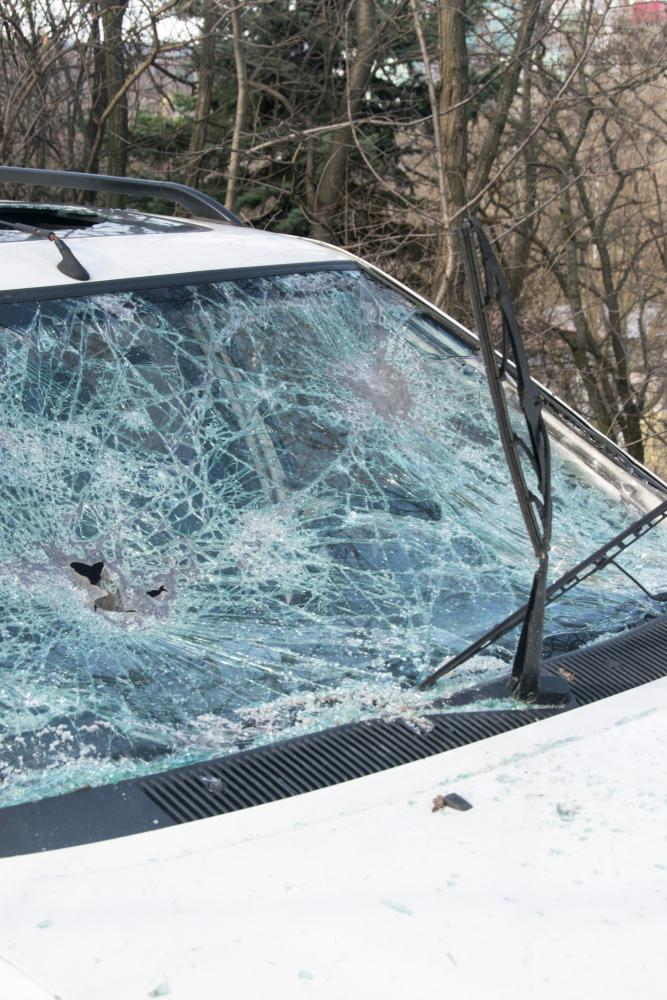glass shatter: (0, 266, 667, 807)
